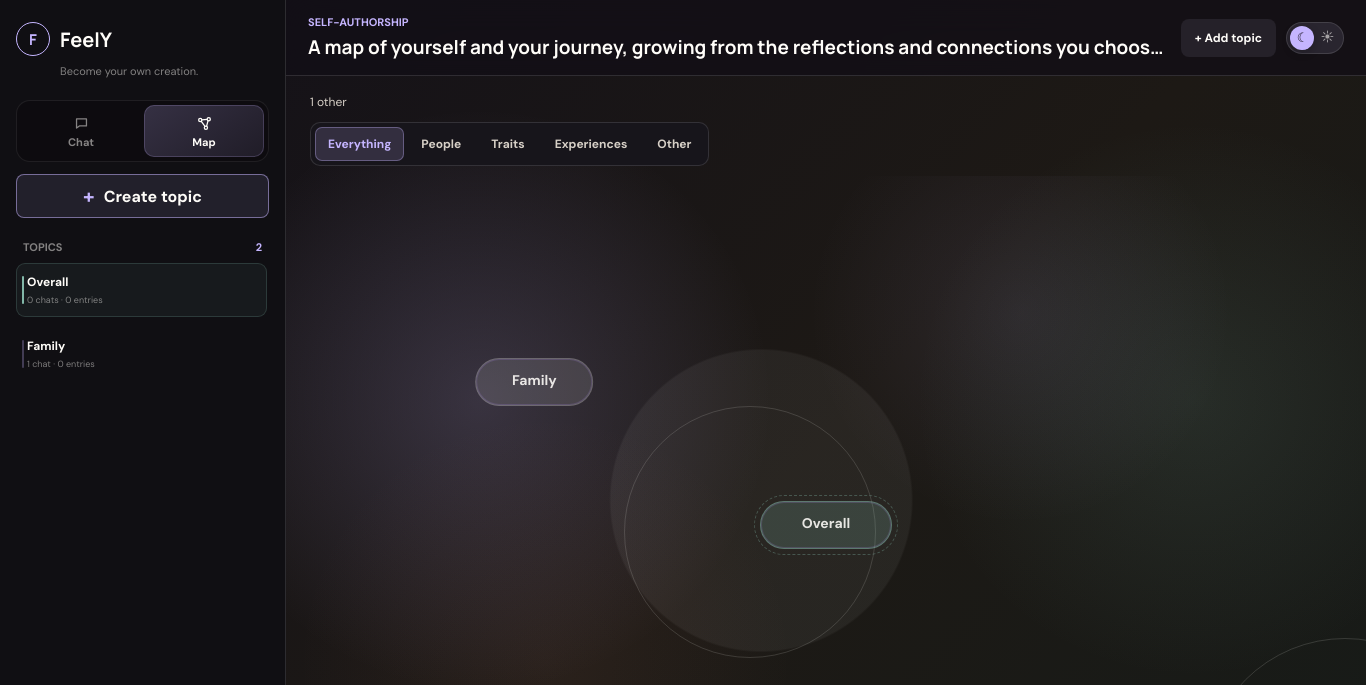
Scenario: real Chat shell/composer/history/stream › Map link to a deleted source retains the source ID and shows its error instead of another chat
Click the button with aria-label "Open Family" at x=534, y=382, box top-left (476, 358), bottom-right (593, 406)
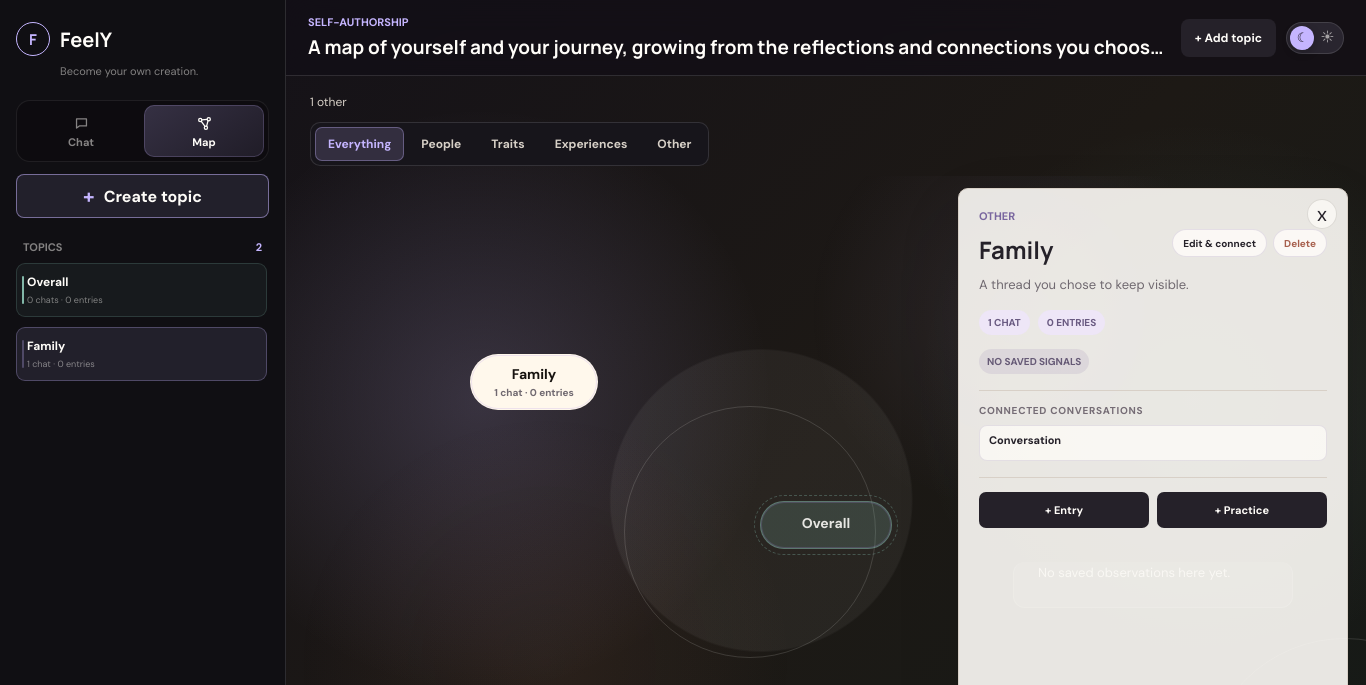
Click the link "Conversation" at x=1025, y=440, box top-left (979, 425), bottom-right (1327, 461)
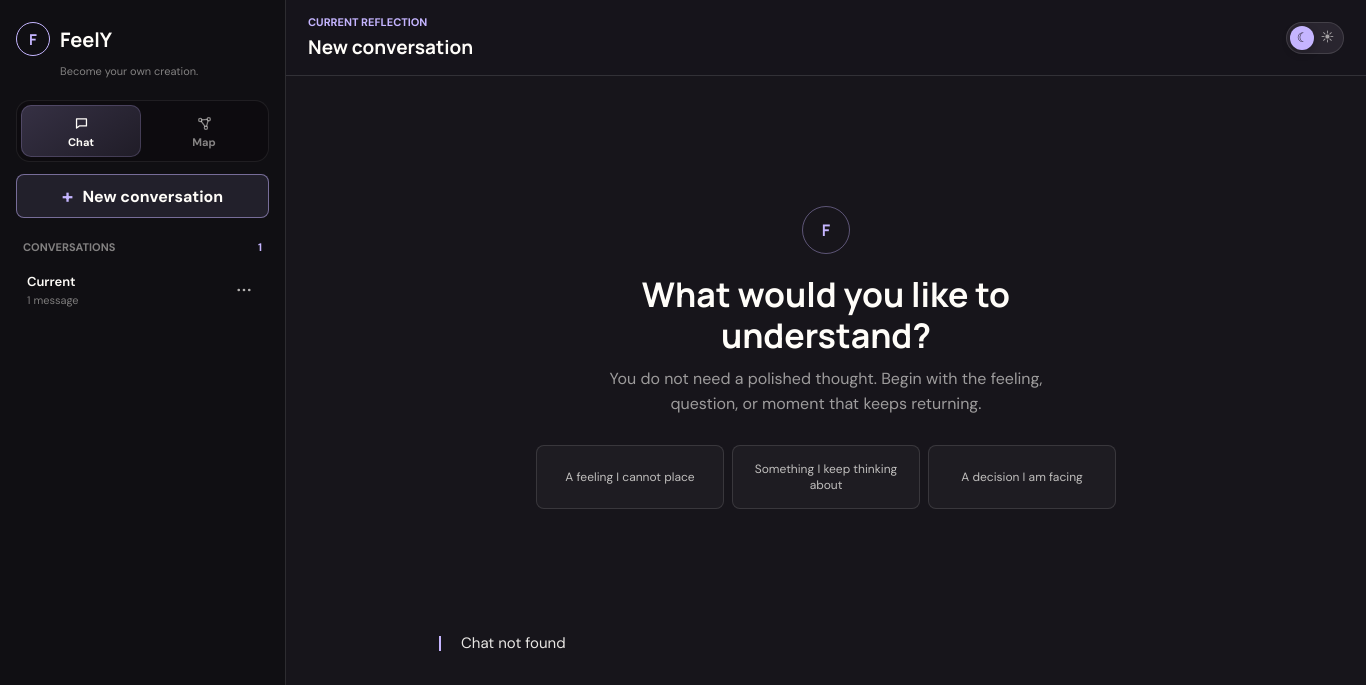
Check: the message reads "Chat not found", box top-left (461, 633), bottom-right (566, 653)
